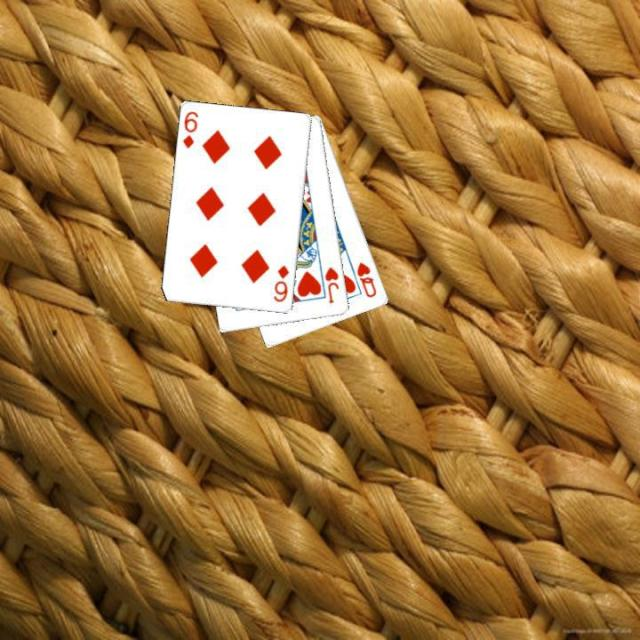6D: (270, 261, 291, 304), (180, 108, 200, 150)
JH: (322, 263, 341, 305)
QH: (353, 258, 379, 300)
